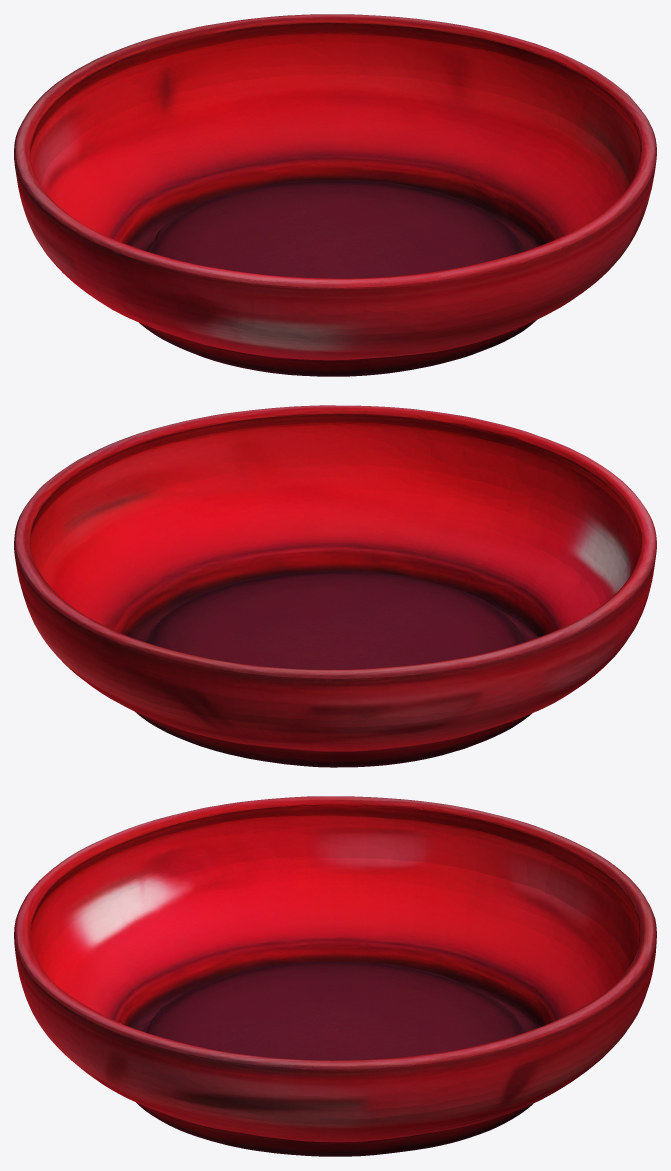
Rendered from bowl.glb.
The picture shows the model from 3 angles, top to bottom: view 1: azimuth 30°, elevation 25°; view 2: azimuth 150°, elevation 25°; view 3: azimuth 270°, elevation 25°; orthographic projection.
Parts seen in each view (by area): view 1: mat0; view 2: mat0; view 3: mat0.
Boxes of the visible parts, x1=… form: mat0: x1=14, y1=14, x2=656, y2=376; mat0: x1=14, y1=405, x2=656, y2=767; mat0: x1=14, y1=796, x2=656, y2=1156.
Size of the model in its own units: 0.16 by 0.0383 by 0.16.
1 material, 1 textured.
